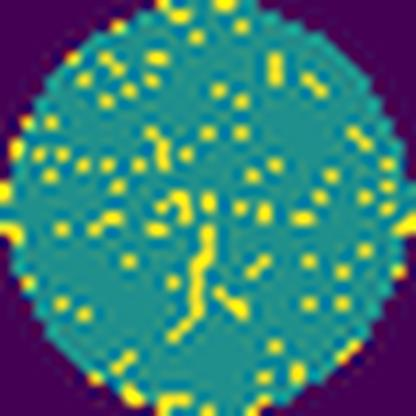Scratch: (164, 220, 222, 346)
